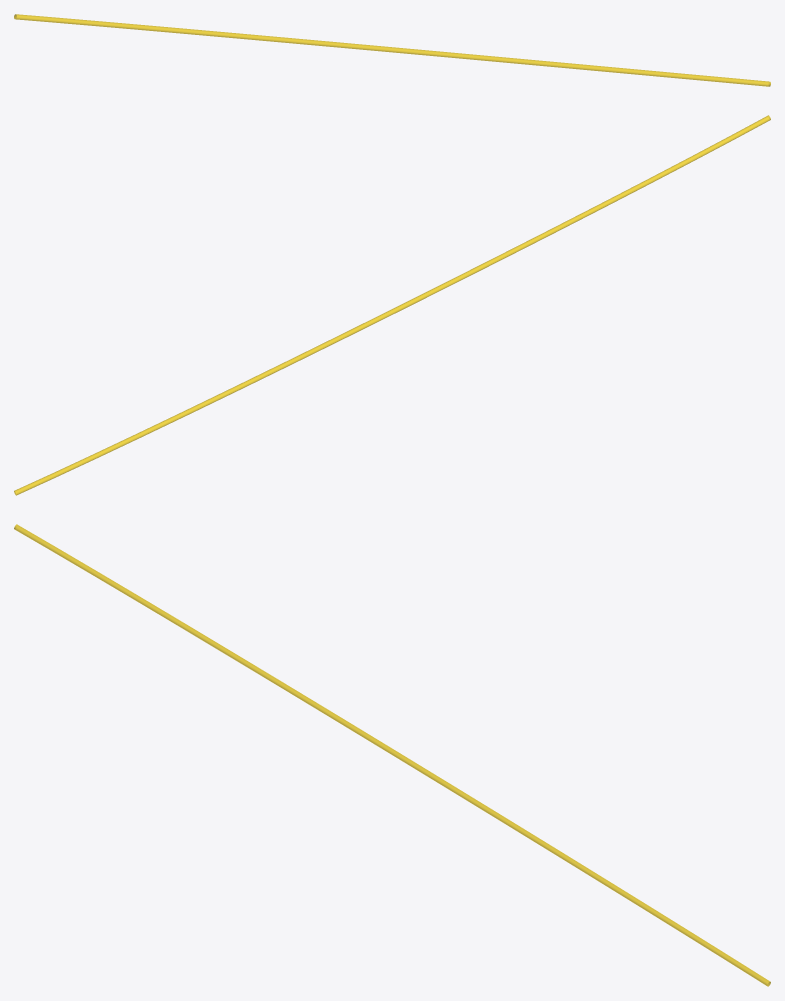
Rendered from Event_17758602_track_37.fbx.
The picture shows the model from 3 angles, top to bottom: view 1: azimuth 30°, elevation 25°; view 2: azimuth 210°, elevation 25°; view 3: azimuth 330°, elevation 25°; orthographic projection. The views are drawn at different scales.
Parts seen in each view (by area): view 1: Model; view 2: Model; view 3: Model.
Boxes of the visible parts, x1,y1,x2,y2 form: Model: (14, 14, 770, 86); Model: (14, 115, 770, 495); Model: (14, 524, 770, 986).
Size of the model in its own units: 6.34 by 1.89 by 0.5052.
